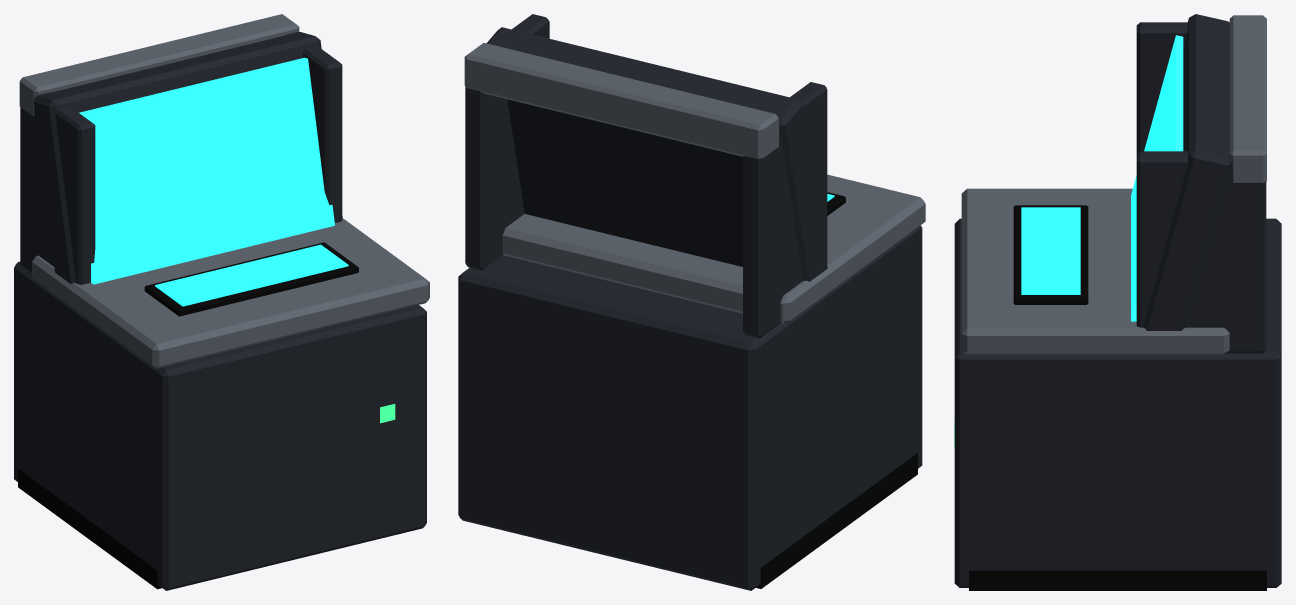
File: terminal_hack.glb
3 views of the same model, side by side, from view 1: azimuth 30°, elevation 25°; view 2: azimuth 150°, elevation 25°; view 3: azimuth 270°, elevation 25° (orthographic). The views are drawn at different scales.
Visible parts, largest first — view 1: terminal_hack; view 2: terminal_hack; view 3: terminal_hack.
Part boxes in pixels (x1,y1,x2,y2): terminal_hack: (14, 14, 429, 590); terminal_hack: (458, 14, 925, 590); terminal_hack: (954, 14, 1281, 590).
Size of the model in its own units: 0.92 by 1.3 by 0.88.
